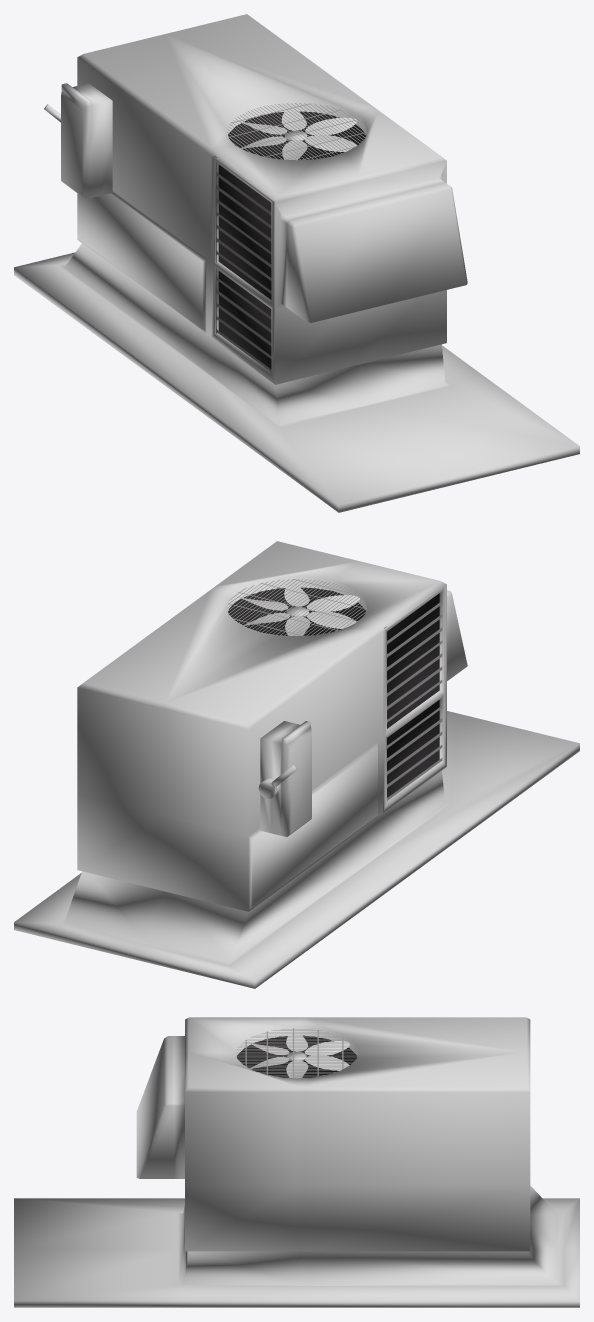
The model's file is Rooftop Vents.011.glb.
The picture shows the model from 3 angles, top to bottom: view 1: azimuth 30°, elevation 25°; view 2: azimuth 150°, elevation 25°; view 3: azimuth 270°, elevation 25°; orthographic projection. The views are drawn at different scales.
Visible parts, largest first — view 1: Rooftop Vents.011; view 2: Rooftop Vents.011; view 3: Rooftop Vents.011.
Part boxes in pixels (bbox=[...]): Rooftop Vents.011: bbox=[14, 14, 579, 512]; Rooftop Vents.011: bbox=[14, 541, 579, 988]; Rooftop Vents.011: bbox=[14, 1017, 579, 1307].
Size of the model in its own units: 1.97 by 1.78 by 4.48.
Materials: 3 (1 with a texture image).
